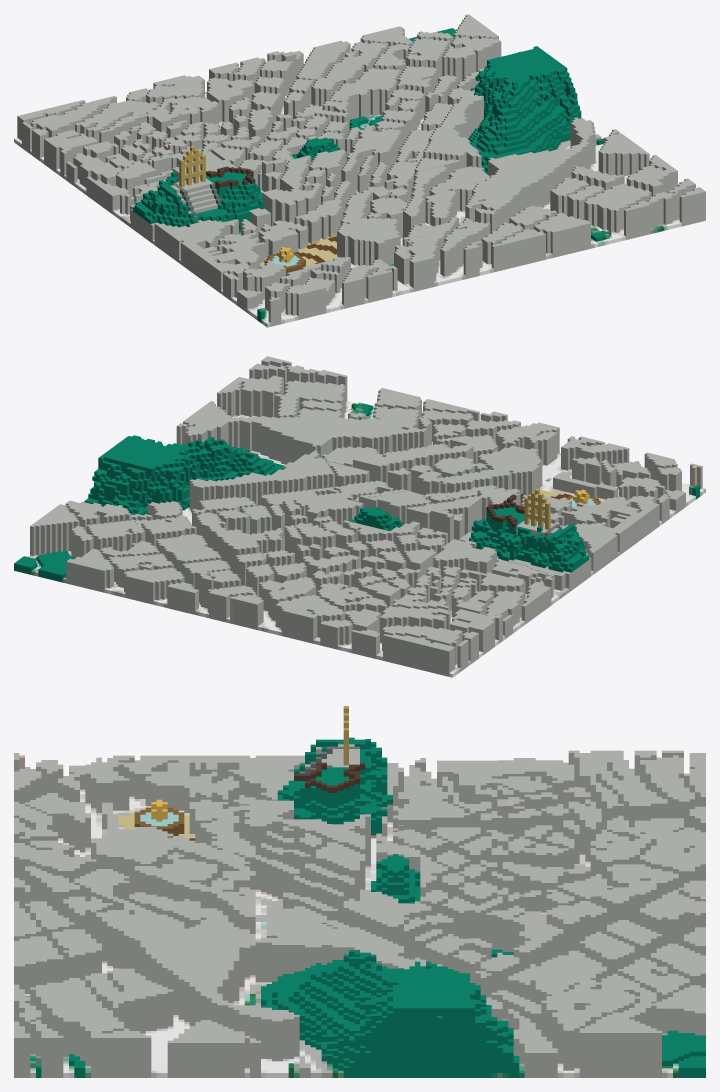
The model's file is 210508macau-14.obj.
The picture shows the model from 3 angles, top to bottom: view 1: azimuth 30°, elevation 25°; view 2: azimuth 150°, elevation 25°; view 3: azimuth 270°, elevation 25°; orthographic projection. The views are drawn at different scales.
Bounding box in the file's own units: 12.6 × 2.3 × 12.6.
Materials: 1 (1 with a texture image).
